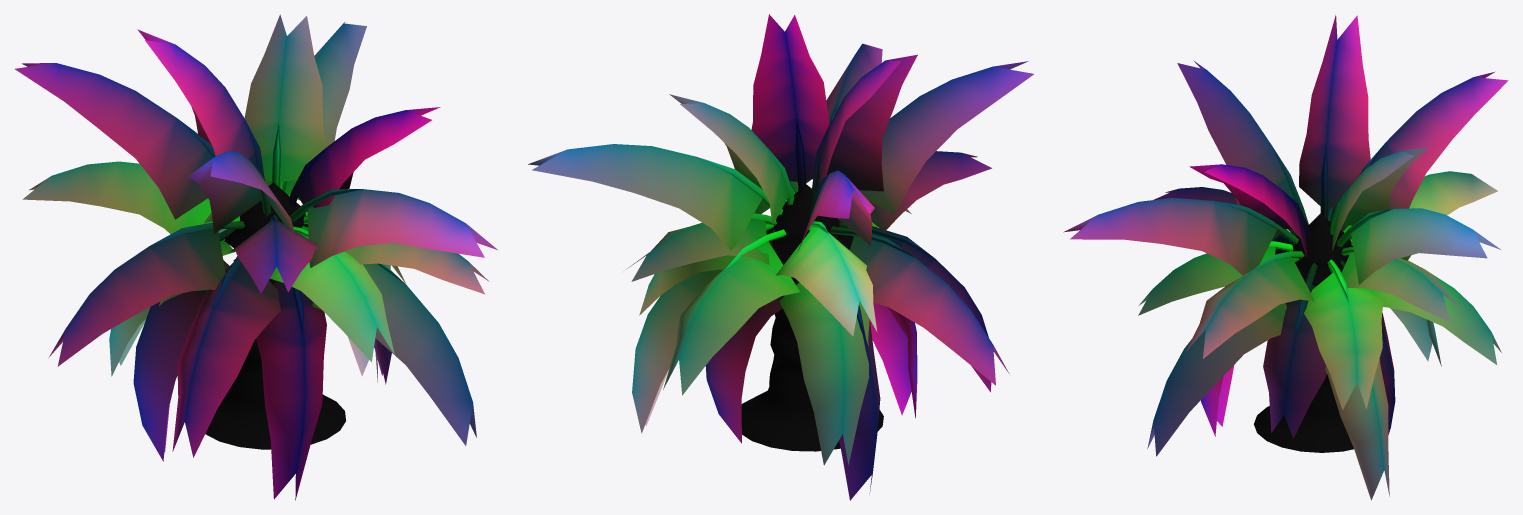
The model's file is M_Palm_2_4.fbx.
3 views of the same model, side by side, from view 1: azimuth 30°, elevation 25°; view 2: azimuth 150°, elevation 25°; view 3: azimuth 270°, elevation 25° (orthographic). The views are drawn at different scales.
Visible parts, largest first — view 1: Palm_2_4; view 2: Palm_2_4; view 3: Palm_2_4.
Part boxes in pixels (x1=…): Palm_2_4: x1=15, y1=14, x2=497, y2=500; Palm_2_4: x1=528, y1=14, x2=1033, y2=500; Palm_2_4: x1=1063, y1=15, x2=1508, y2=500.
Size of the model in its own units: 511 by 544 by 555.
